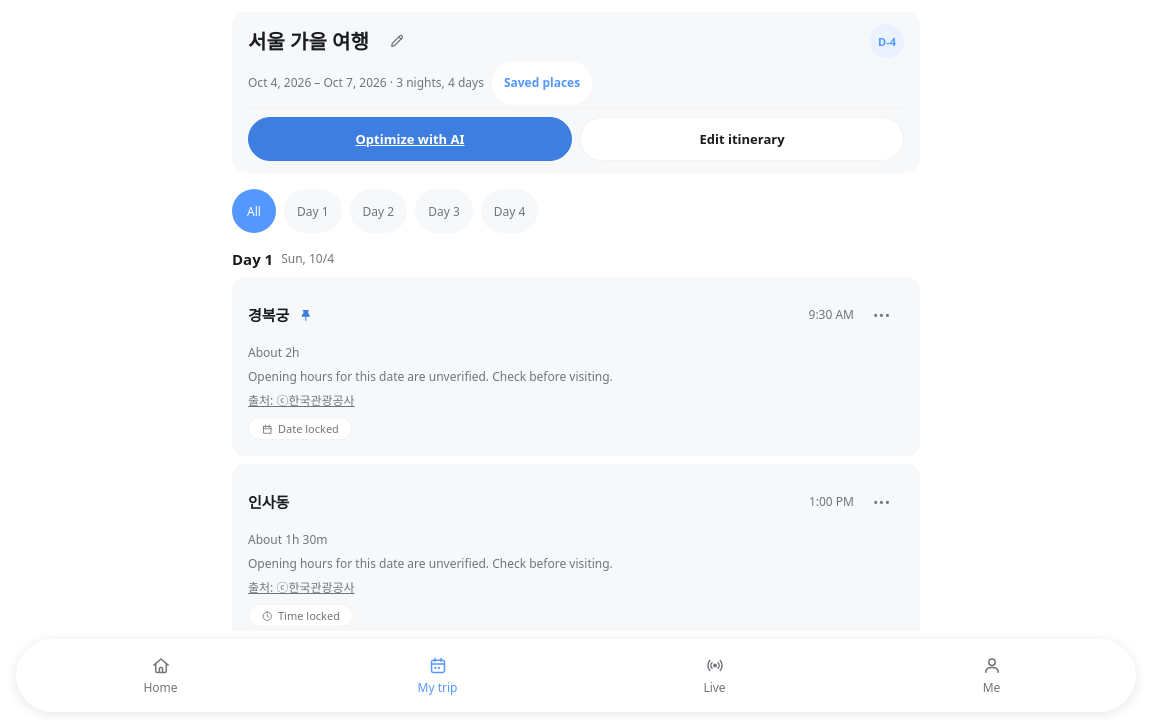
Scenario: FE-304-T1 releasing one lock leaves the others alone › releases nothing when the confirm is cancelled
This screenshot has width=1152, height=720.
Expected: the heading "경복궁" is shown, x1=248 y1=305 x2=289 y2=325
Click the button "•••" next to "9:30 AM" at (882, 315), box x1=860 y1=293 x2=904 y2=337
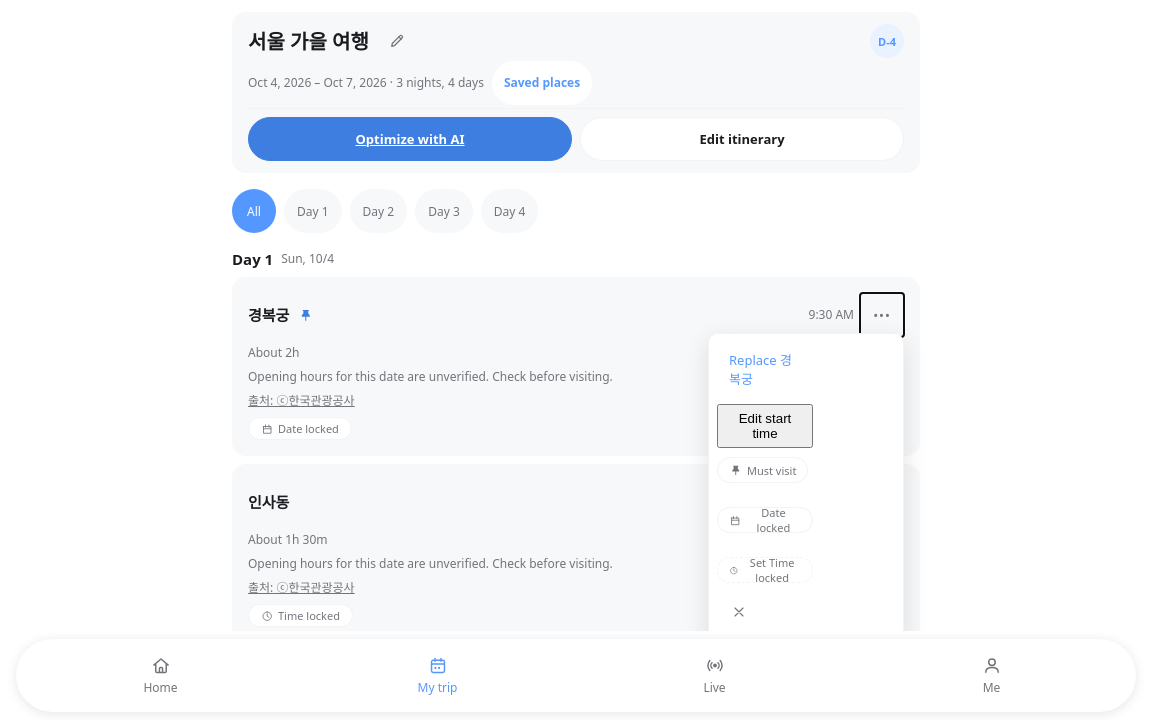
Click the button "Date locked" at (765, 520), box x1=717 y1=498 x2=813 y2=542
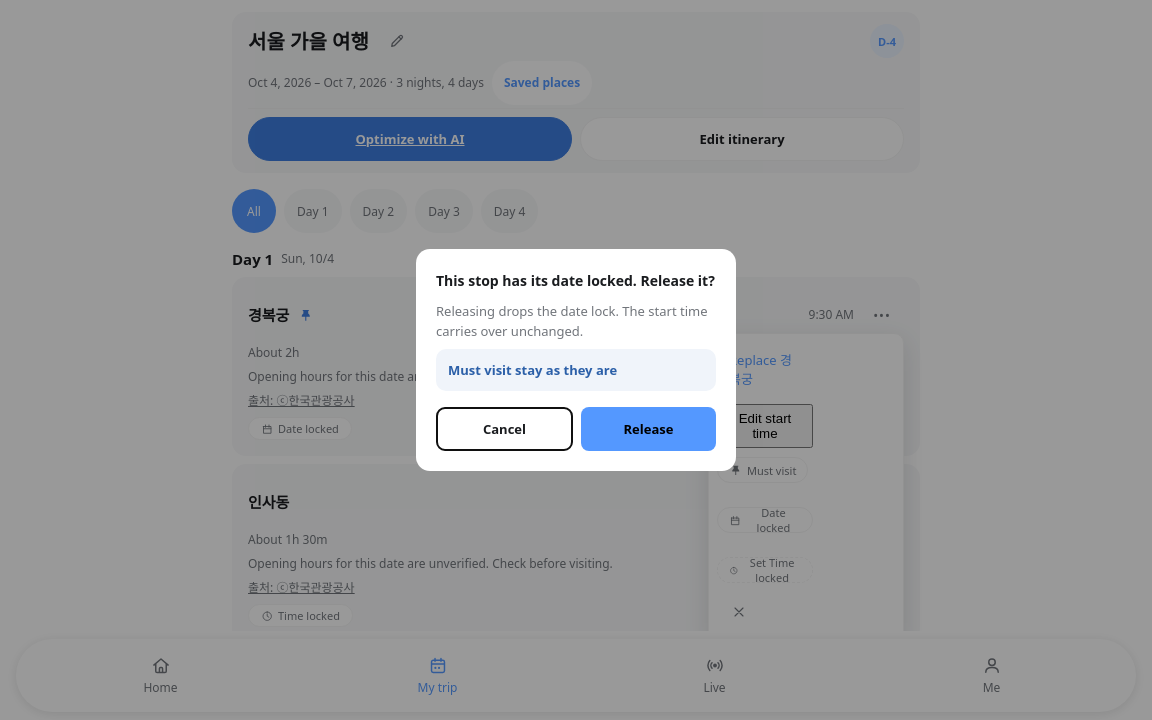
Click the button "Cancel" at (504, 429), box x1=436 y1=407 x2=573 y2=451
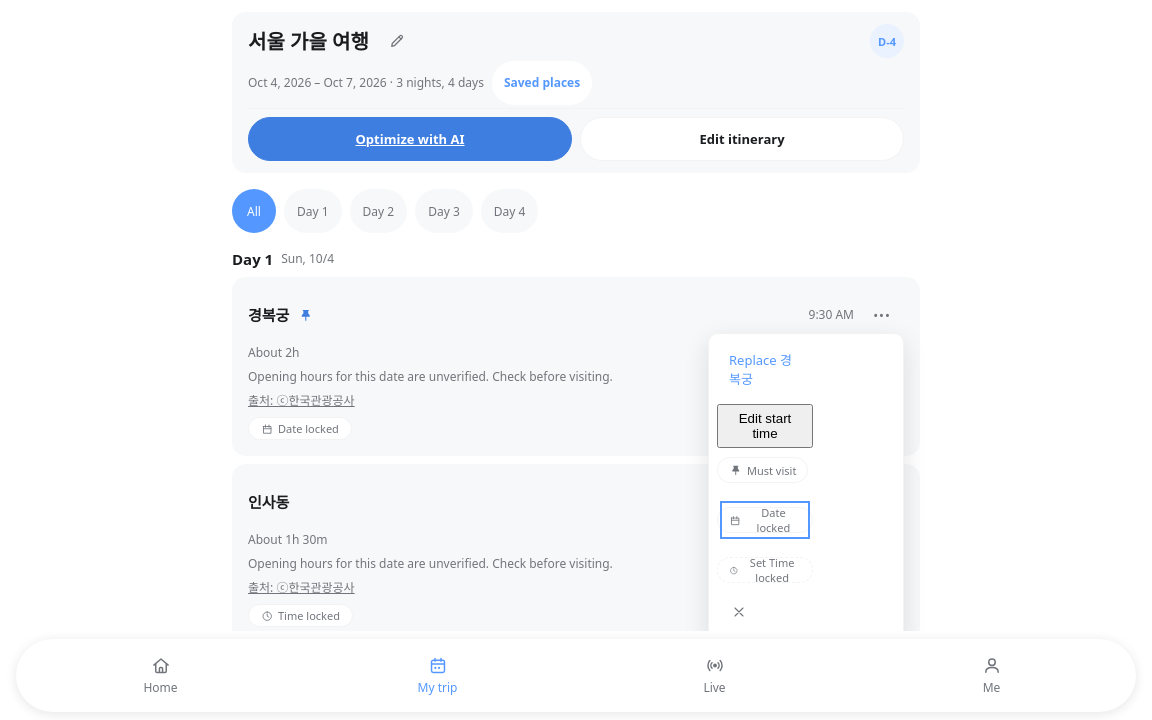
Result: the button "Date locked" is shown at x1=717 y1=498 x2=813 y2=542
Result: the dialog is gone
